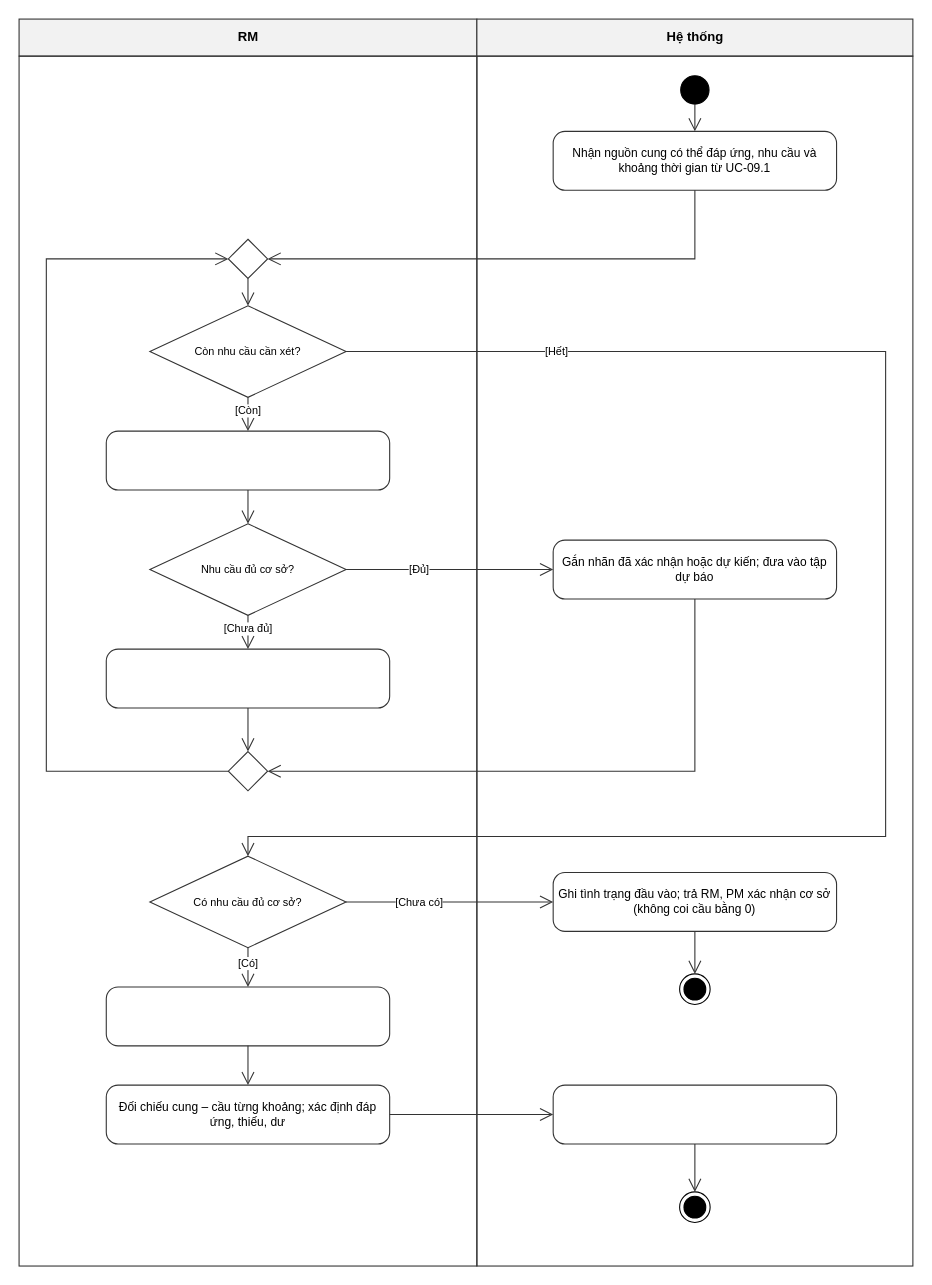
Some shapes in this 932 by 1285 pixel diagram are drawn without their labels. Each missing label, with the box of its shape:
Ghi lý do chưa đủ cơ sở; chưa đưa nhu cầu vào dự báo: (105, 648, 390, 708)
Lưu kết quả, mức chắc chắn và phần dữ liệu thiếu; trả UC-09.1: (552, 1084, 837, 1144)
Lập dự báo cung và cầu theo khoảng thời gian đã xác định: (105, 986, 390, 1046)
Xét trạng thái, mức chắc chắn, thời gian và phạm vi của nhu cầu: (105, 430, 390, 490)
